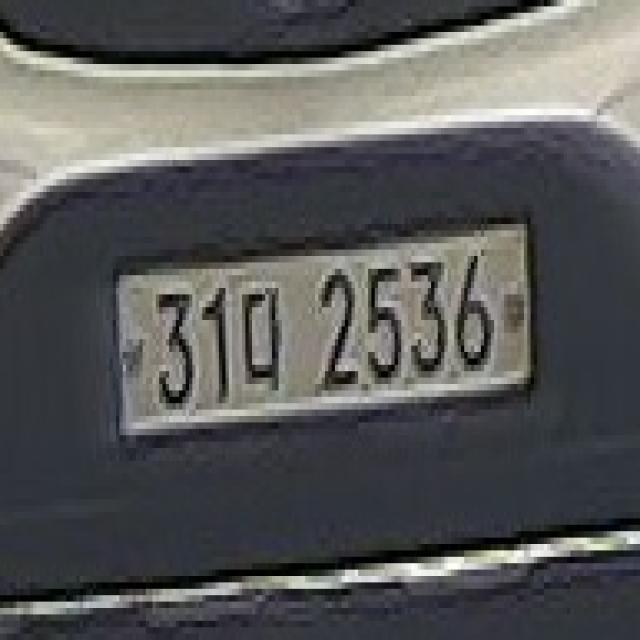plat: (111, 212, 536, 435)
